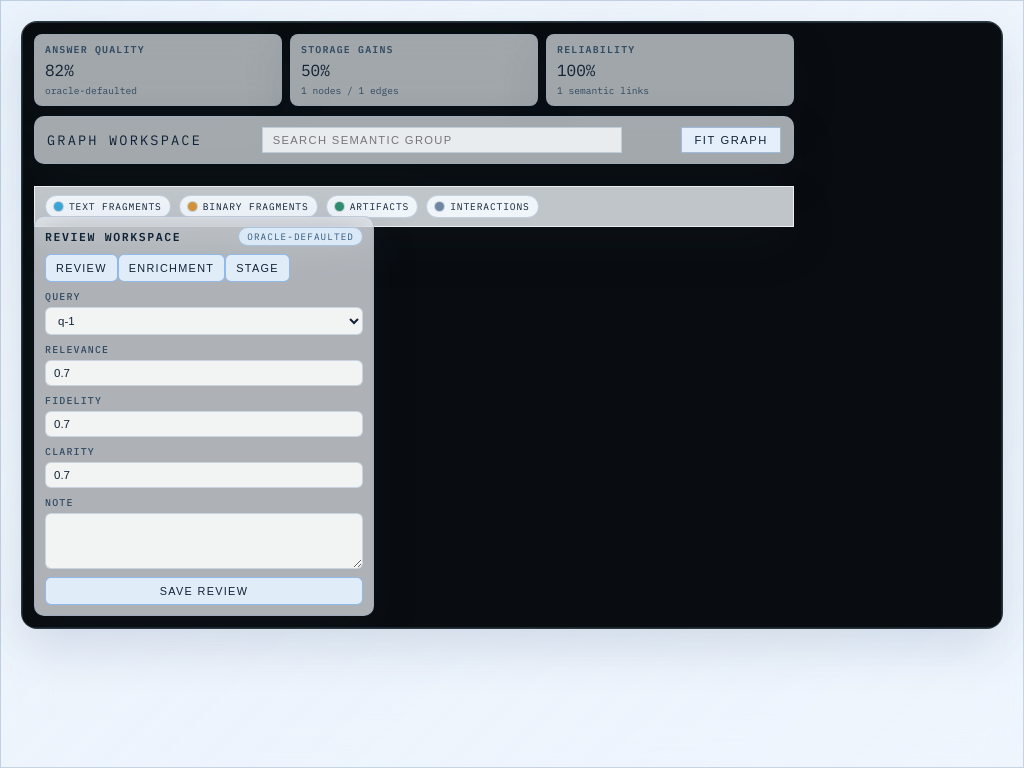
Test: opens inspector when clicking search marker
The image size is (1024, 768).
Type "revenue" into the search field with placeholder "Search semantic group".
click(442, 140); type("revenue")  # box [262,127,622,153]
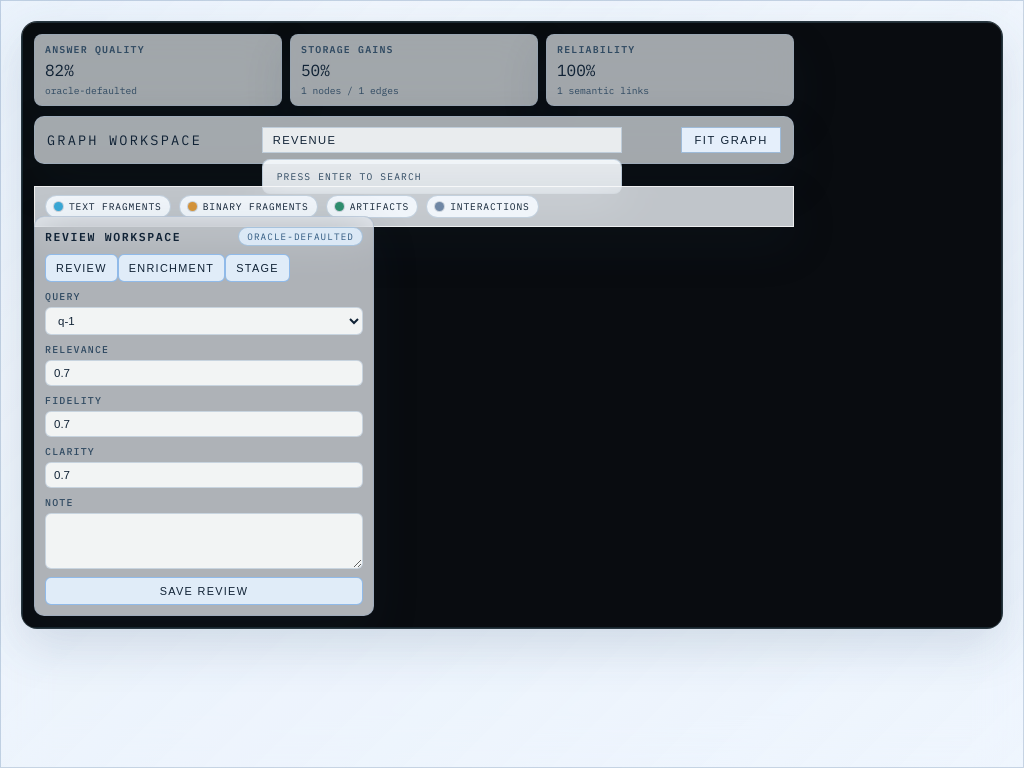
Submit the form with placeholder "Search semantic group", box [262,127,622,153]
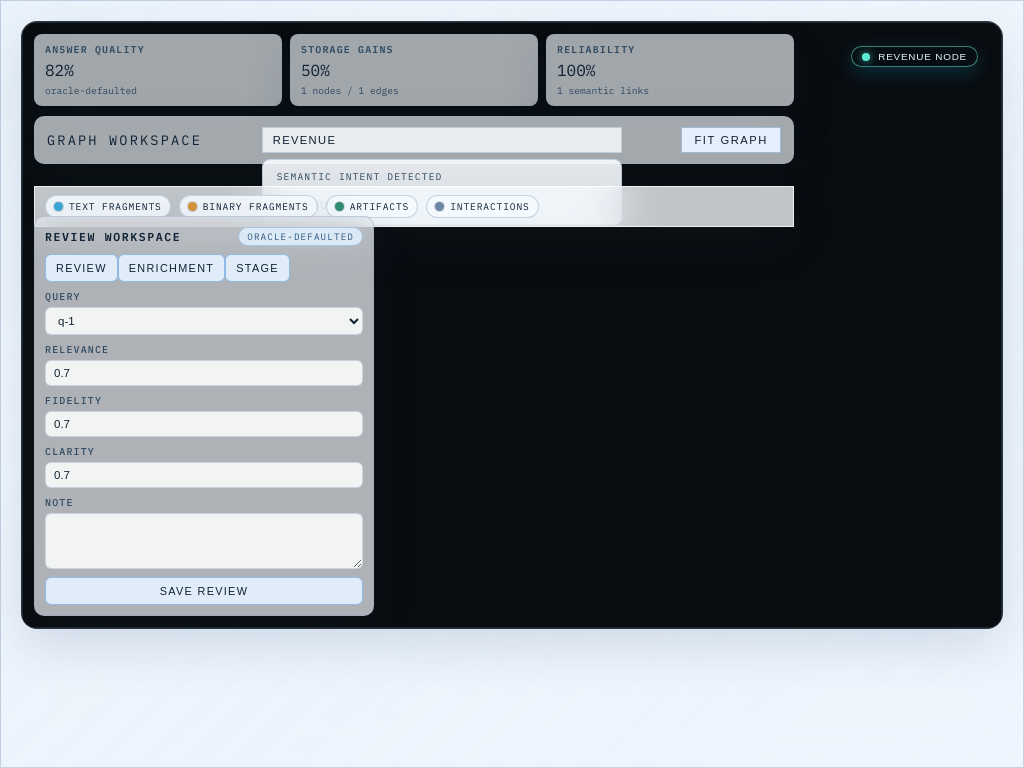
Click the button "Revenue Node".
click(915, 56)  # box [851,46,978,67]
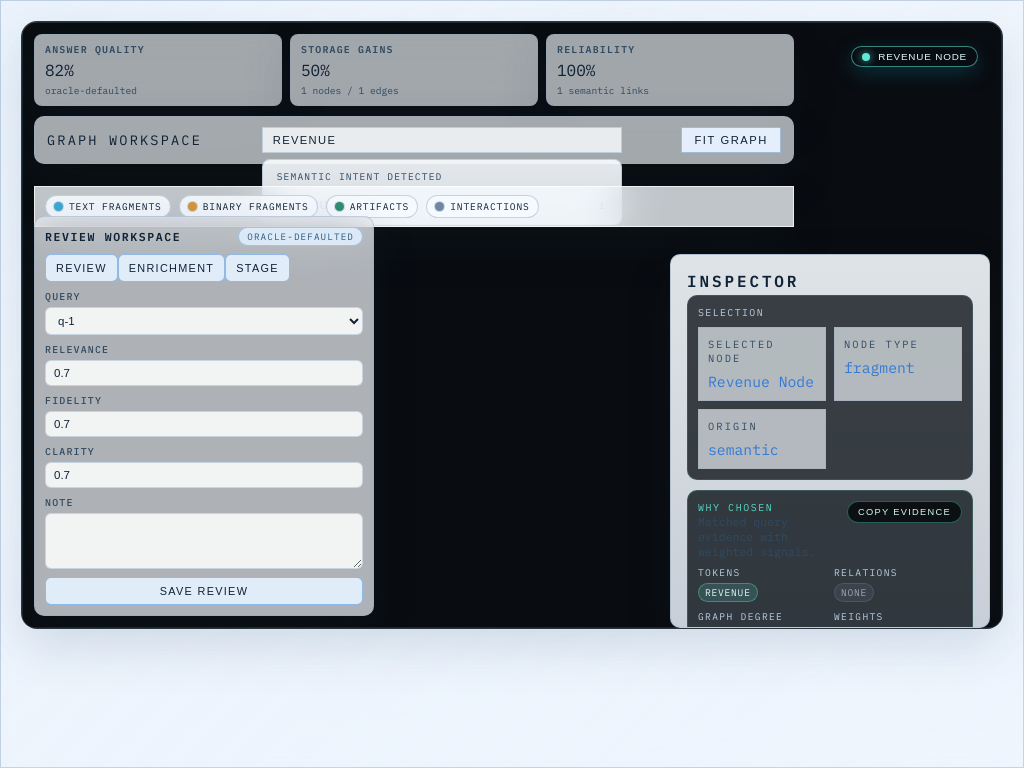
Check: the element with test id "graph-inspector" is shown, box [687,271,973,611]
Check: the text "Why Chosen" is shown, box [698,501,773,514]
